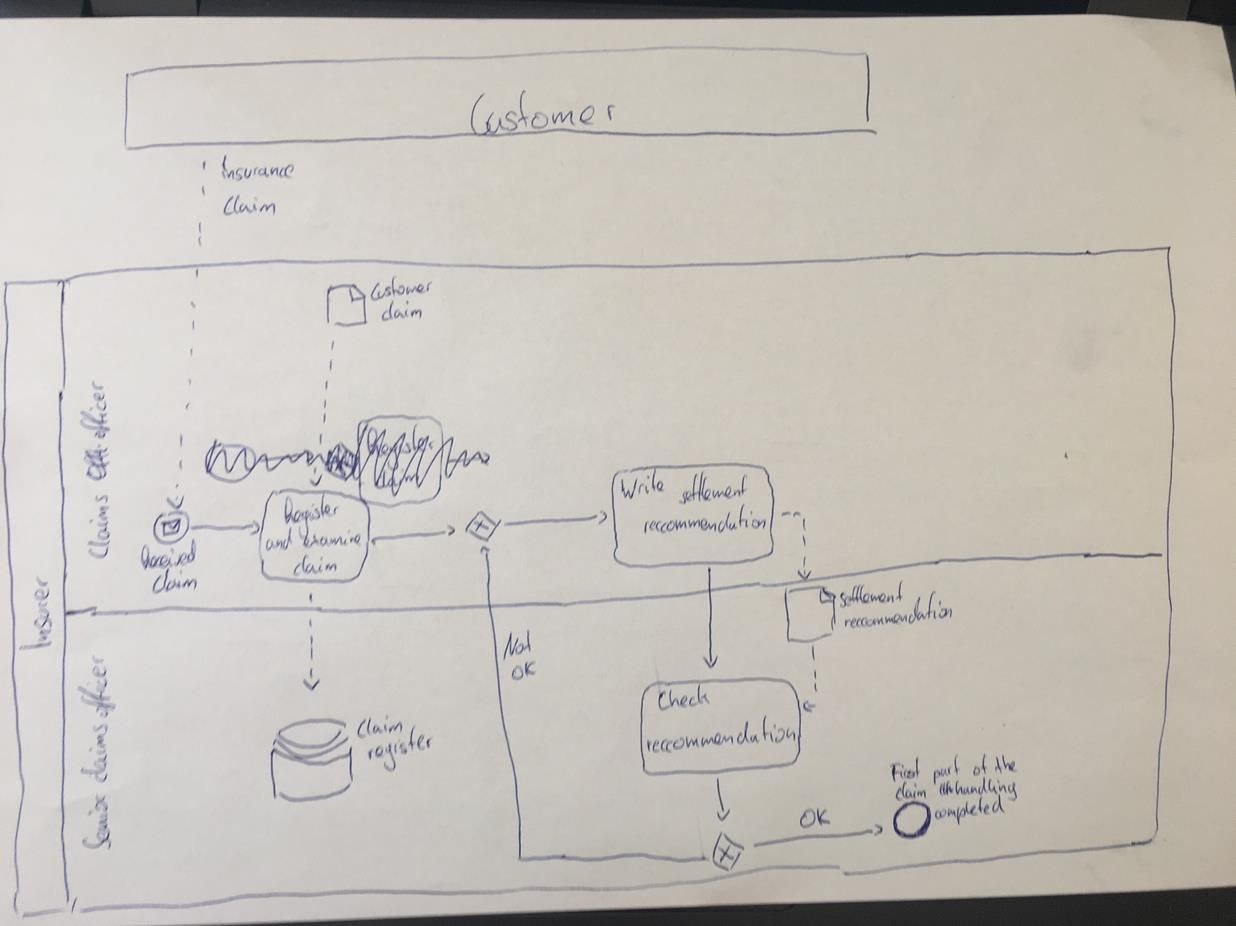Check: (652, 680, 716, 717)
Claim: (217, 191, 284, 223), (352, 713, 408, 744)
Claims: (82, 489, 115, 566)
Customer: (465, 84, 623, 146), (364, 270, 438, 307)
First: (886, 753, 925, 789)
Insurance: (215, 150, 299, 187)
Insurer: (12, 570, 58, 658)
Not: (497, 626, 538, 664)
OK: (793, 804, 836, 833), (506, 656, 541, 687)
Received: (134, 534, 202, 575)
Register: (280, 488, 343, 545)
Senior: (75, 791, 119, 856)
Write: (615, 465, 672, 505)
and: (259, 522, 298, 558)
claim: (146, 563, 204, 601), (376, 294, 428, 328), (289, 551, 343, 579), (891, 777, 931, 806)
claims: (75, 720, 115, 788)
completed: (930, 790, 1009, 829)
examine: (299, 526, 366, 552)
handling: (951, 774, 1023, 806)
of: (969, 751, 994, 781)
officer: (73, 649, 121, 724), (76, 376, 116, 443)
part: (928, 751, 965, 790)
reccommendation: (640, 710, 799, 760), (840, 586, 956, 635), (637, 500, 770, 541)
register: (363, 720, 438, 778)
settlement: (675, 468, 752, 510), (834, 576, 911, 611)
the: (989, 750, 1025, 777), (934, 778, 956, 801)
